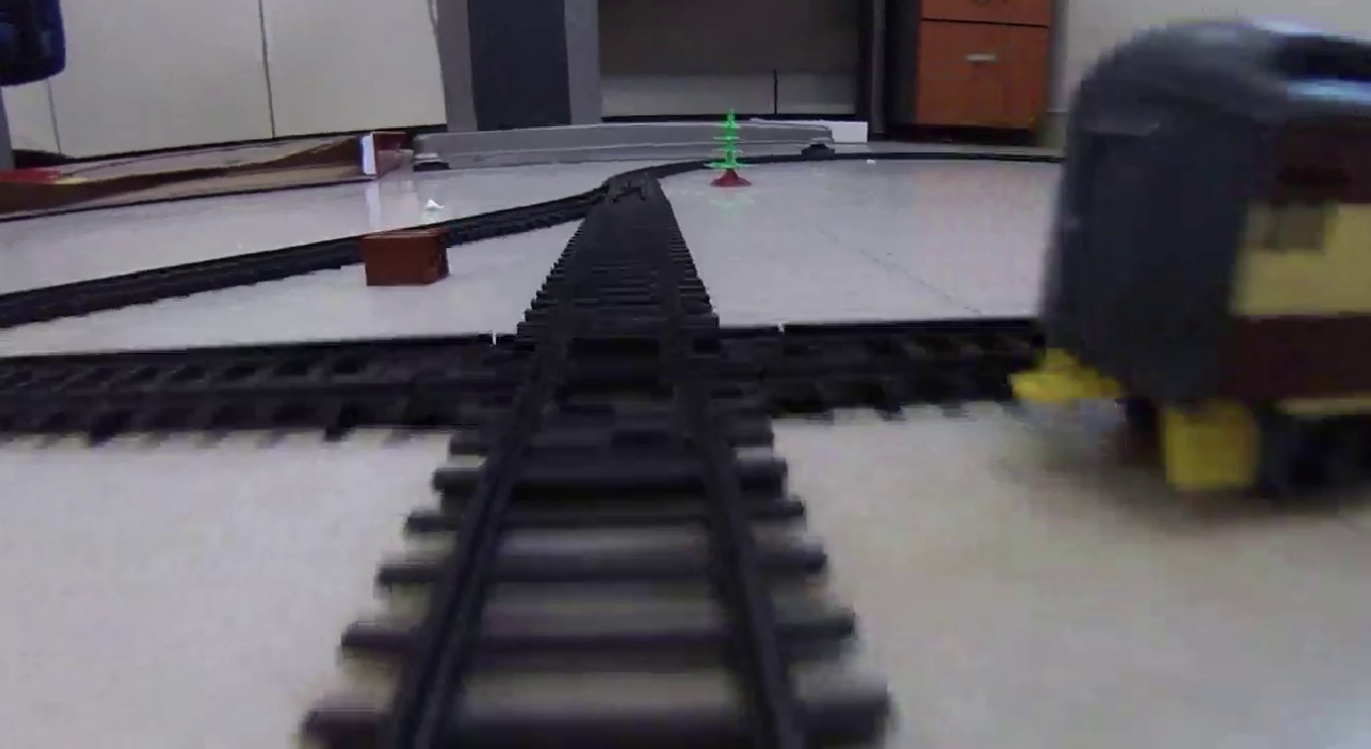box: (367, 232, 450, 284)
tree: (703, 110, 756, 188)
